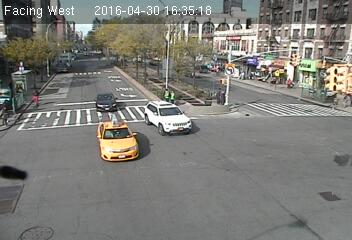neg: (325, 149, 341, 170), (33, 59, 48, 80), (125, 48, 139, 66), (98, 32, 111, 51), (155, 41, 168, 58), (88, 93, 101, 109), (244, 52, 256, 69), (137, 68, 148, 83), (285, 27, 296, 42), (150, 66, 160, 80), (240, 20, 250, 33), (213, 38, 223, 51)
pos: (29, 89, 44, 110), (167, 89, 181, 107), (161, 88, 174, 105), (218, 90, 230, 106), (285, 76, 296, 90)
